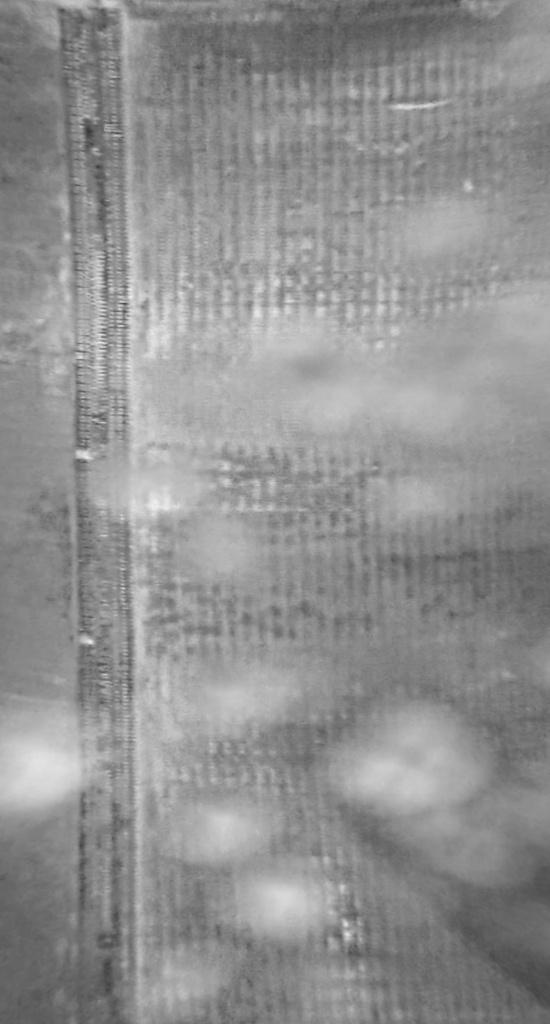splice: (47, 1, 150, 1023)
